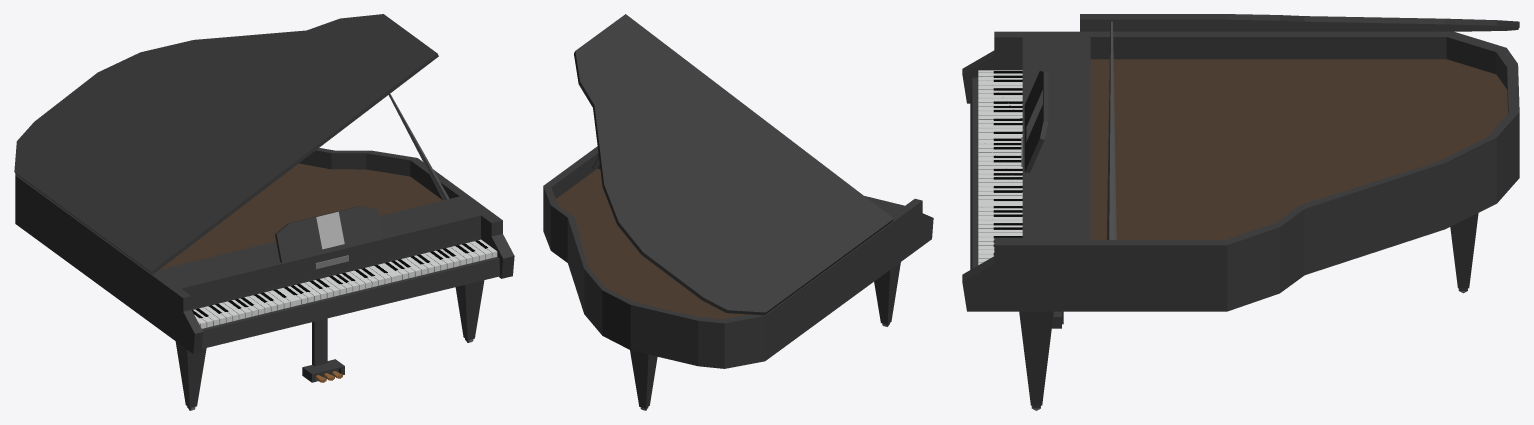
The model's file is Piano Black.fbx.
3 renders of one model, left to right at view 1: azimuth 30°, elevation 25°; view 2: azimuth 150°, elevation 25°; view 3: azimuth 270°, elevation 25°, orthographic. The views are drawn at different scales.
Parts seen in each view (by area): view 1: Piano Black, Piano Key; view 2: Piano Black; view 3: Piano Black, Piano Key.
Part boxes in pixels (box(x1,y1,x2,y2)): Piano Black: box(14, 14, 514, 410); Piano Key: box(192, 239, 497, 328); Piano Black: box(543, 14, 933, 410); Piano Black: box(962, 14, 1519, 410); Piano Key: box(978, 70, 1022, 264).
Size of the model in its own units: 188 by 160 by 207.
